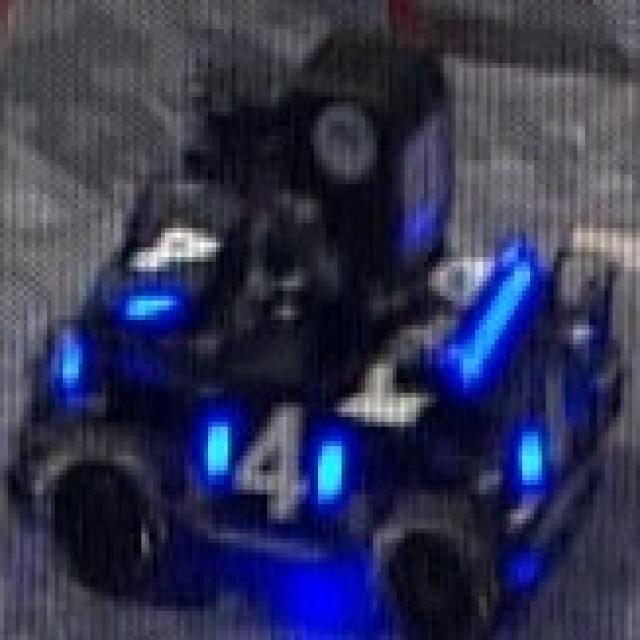B4: (188, 392, 346, 528), (106, 209, 216, 315)
